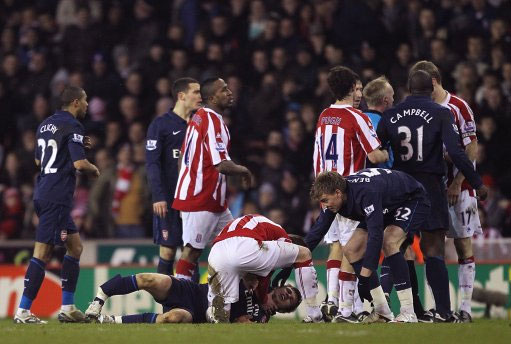10+: (1, 3, 511, 339)
down: (62, 273, 304, 333)
